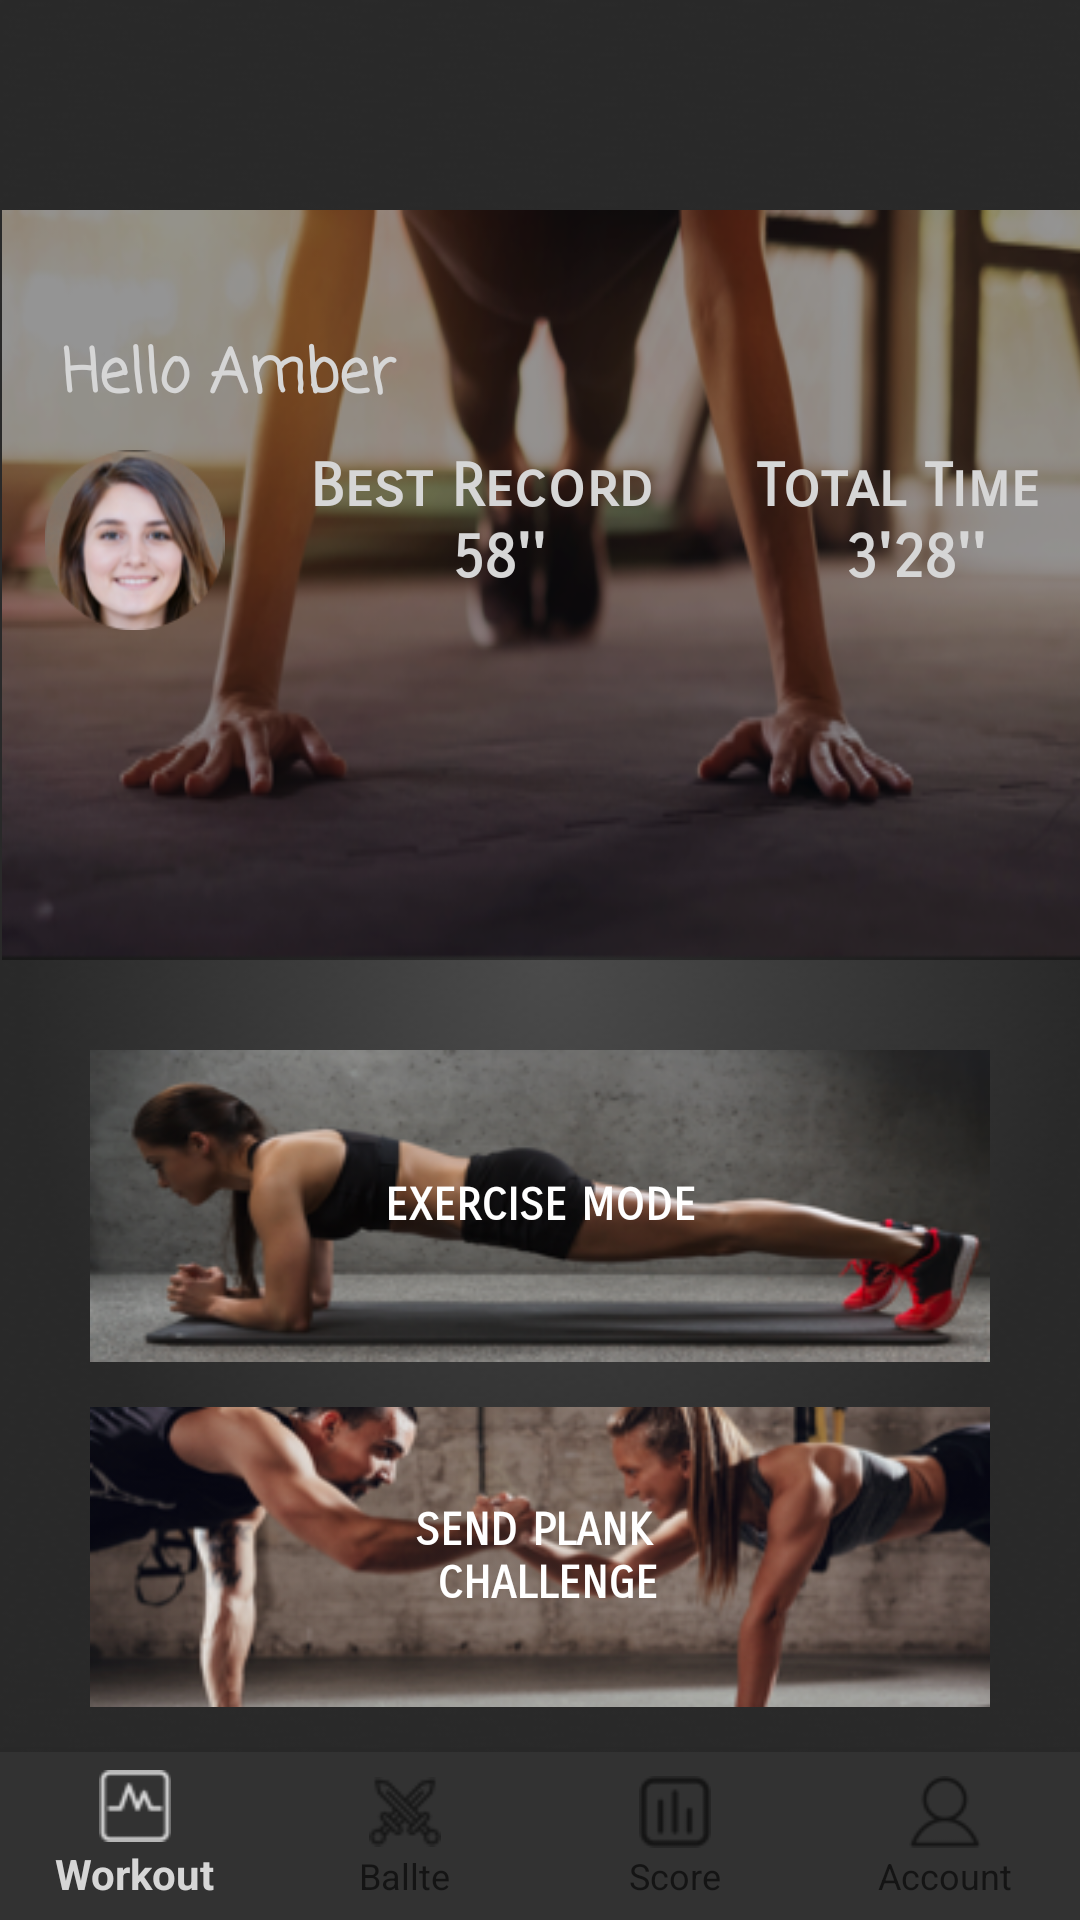

Where to tap for icons on this 1080×1920 app screen, as (x=x, y=y):
profile: (x=134, y=540)
